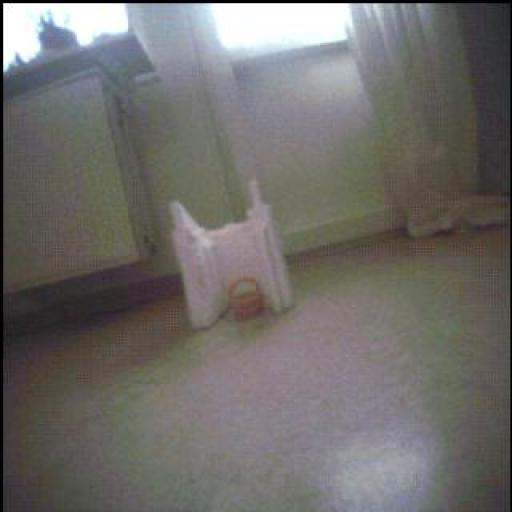Basket: (230, 278, 265, 321)
